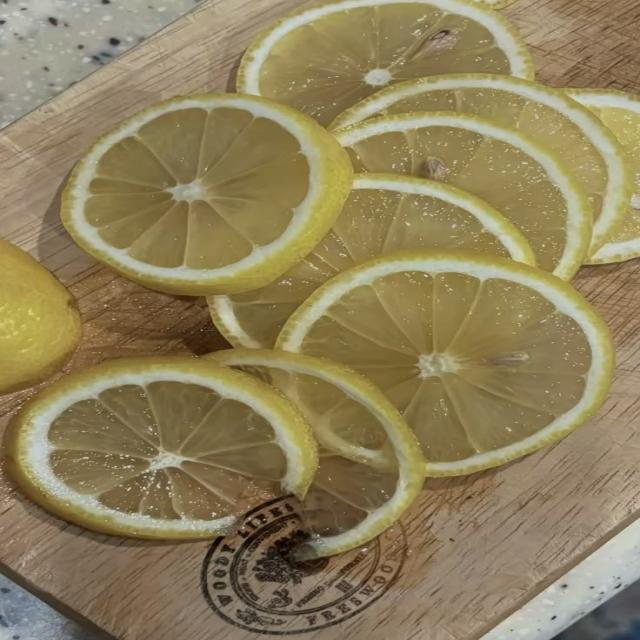lemon: (278, 252, 613, 474), (62, 95, 352, 295), (6, 357, 317, 538), (209, 174, 534, 347), (332, 74, 633, 252), (205, 349, 424, 559), (335, 112, 592, 279), (237, 0, 533, 124), (568, 89, 639, 263), (0, 241, 80, 394), (476, 0, 515, 9)
